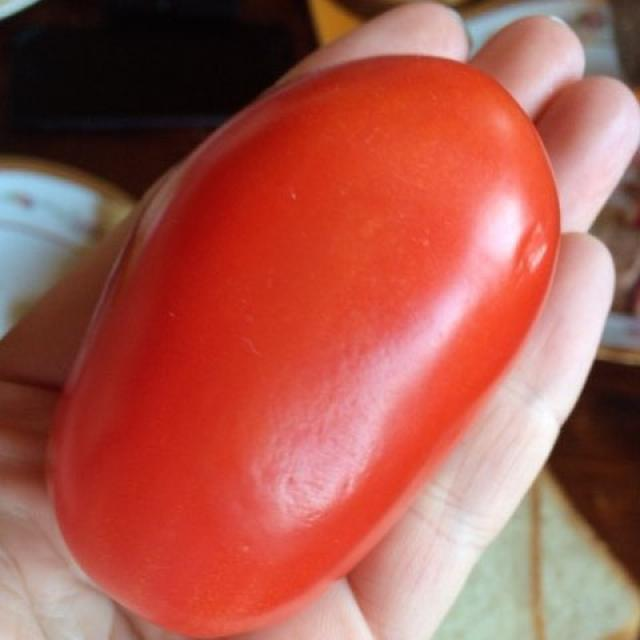tomato-raw: (59, 27, 602, 590)
